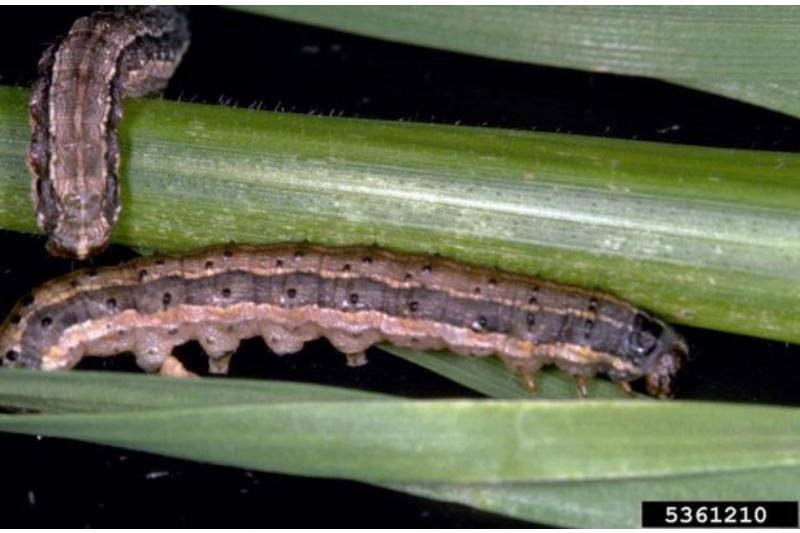fall-armyworm: (1, 244, 690, 400), (26, 5, 194, 264)
